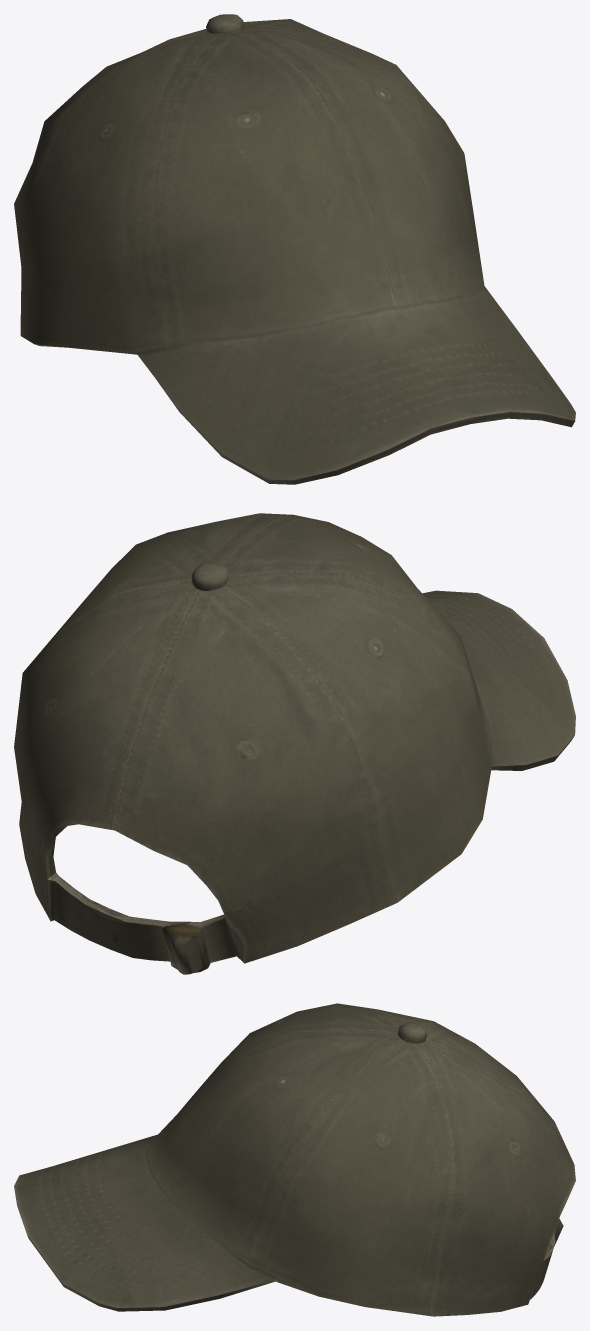
Rendered from cap-danlyvostok.glb.
3 views of the same model, one above another, from view 1: azimuth 30°, elevation 25°; view 2: azimuth 150°, elevation 25°; view 3: azimuth 270°, elevation 25° (orthographic). The views are drawn at different scales.
Visible parts, largest first — view 1: Box001; view 2: Box001; view 3: Box001.
Boxes of the visible parts, x1=… form: Box001: x1=14, y1=14, x2=575, y2=484; Box001: x1=14, y1=513, x2=575, y2=974; Box001: x1=14, y1=1003, x2=575, y2=1316.
Size of the model in its own units: 0.3783 by 0.2809 by 0.561.
Materials: 1 (1 with a texture image).
